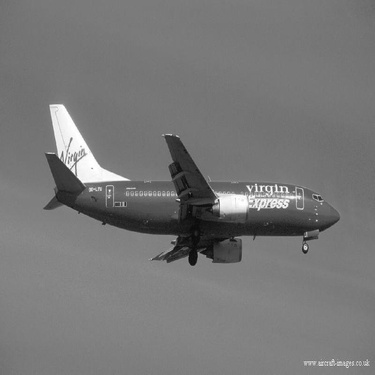airplane: (32, 92, 344, 273)
